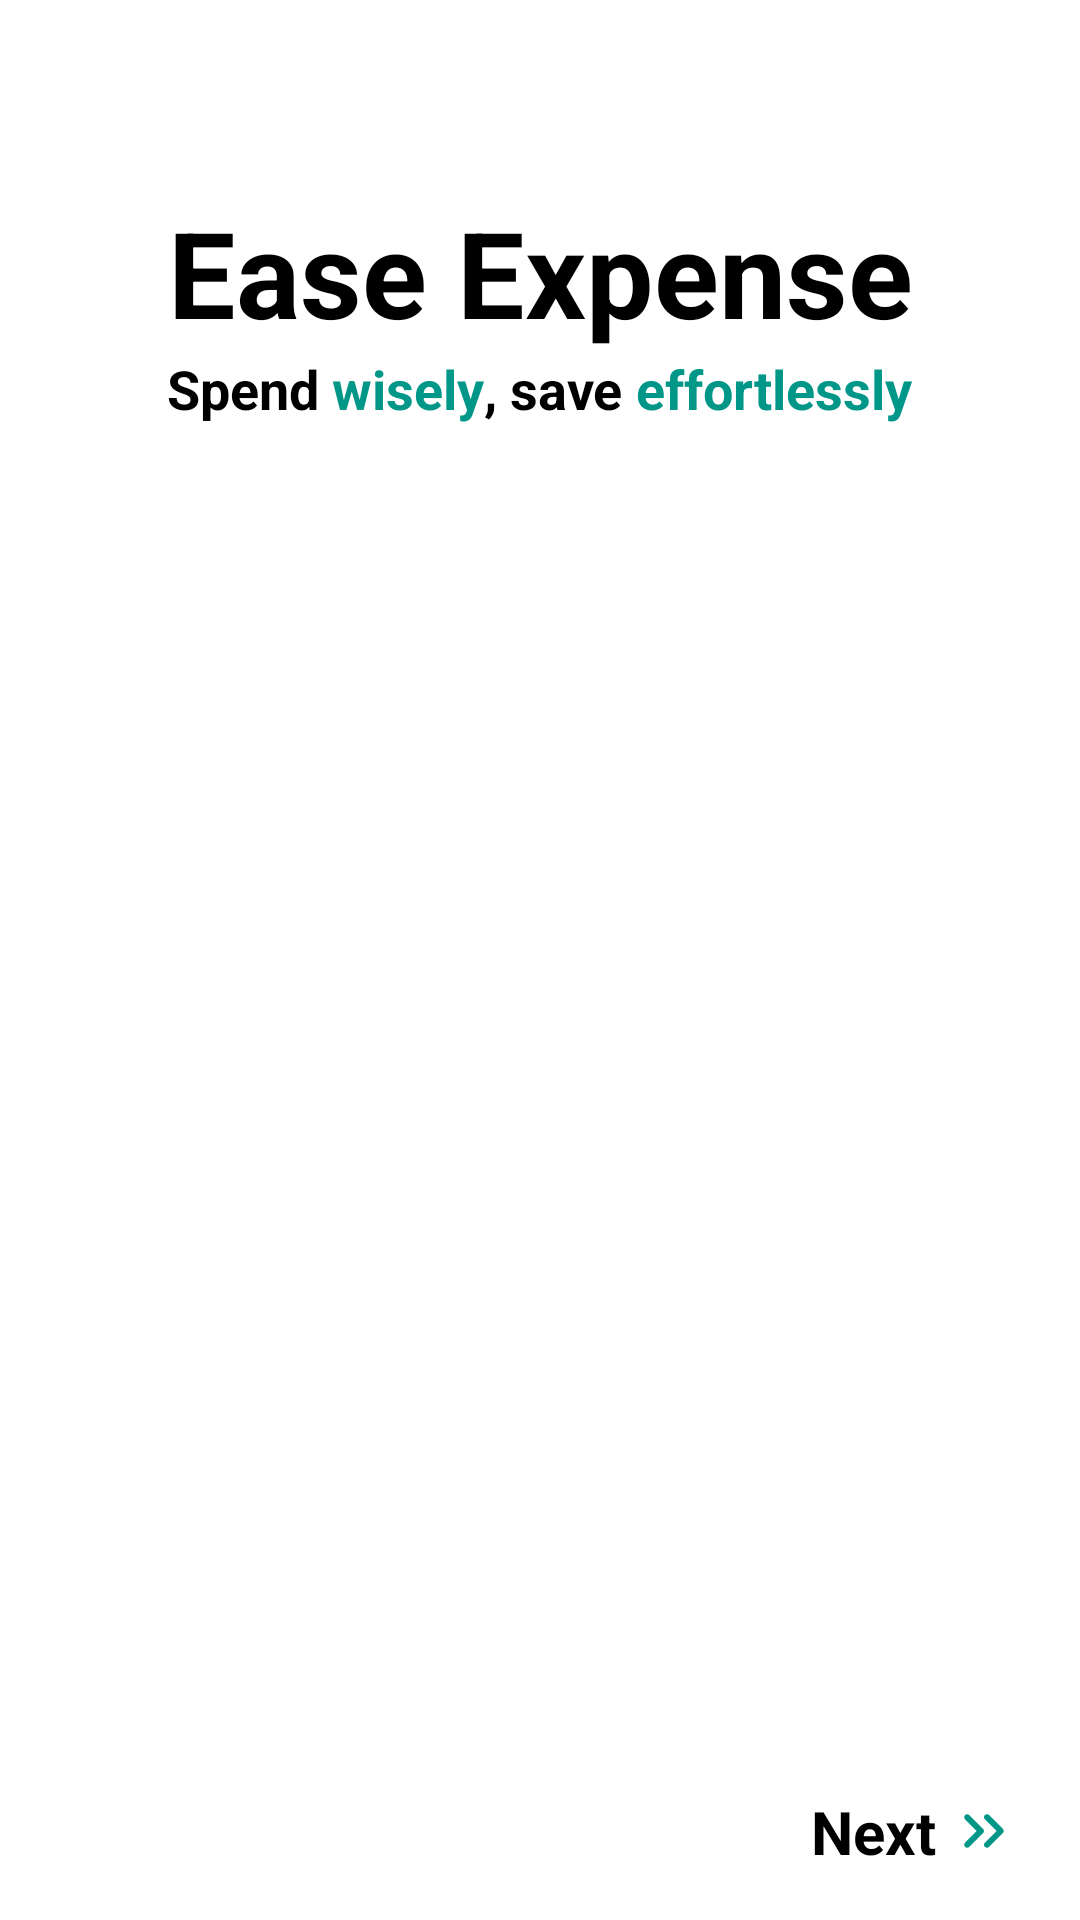

Point at icon controls on the screen. Image size 1080*1920, points as [x,y].
Intro navigation button: [984,1831]
